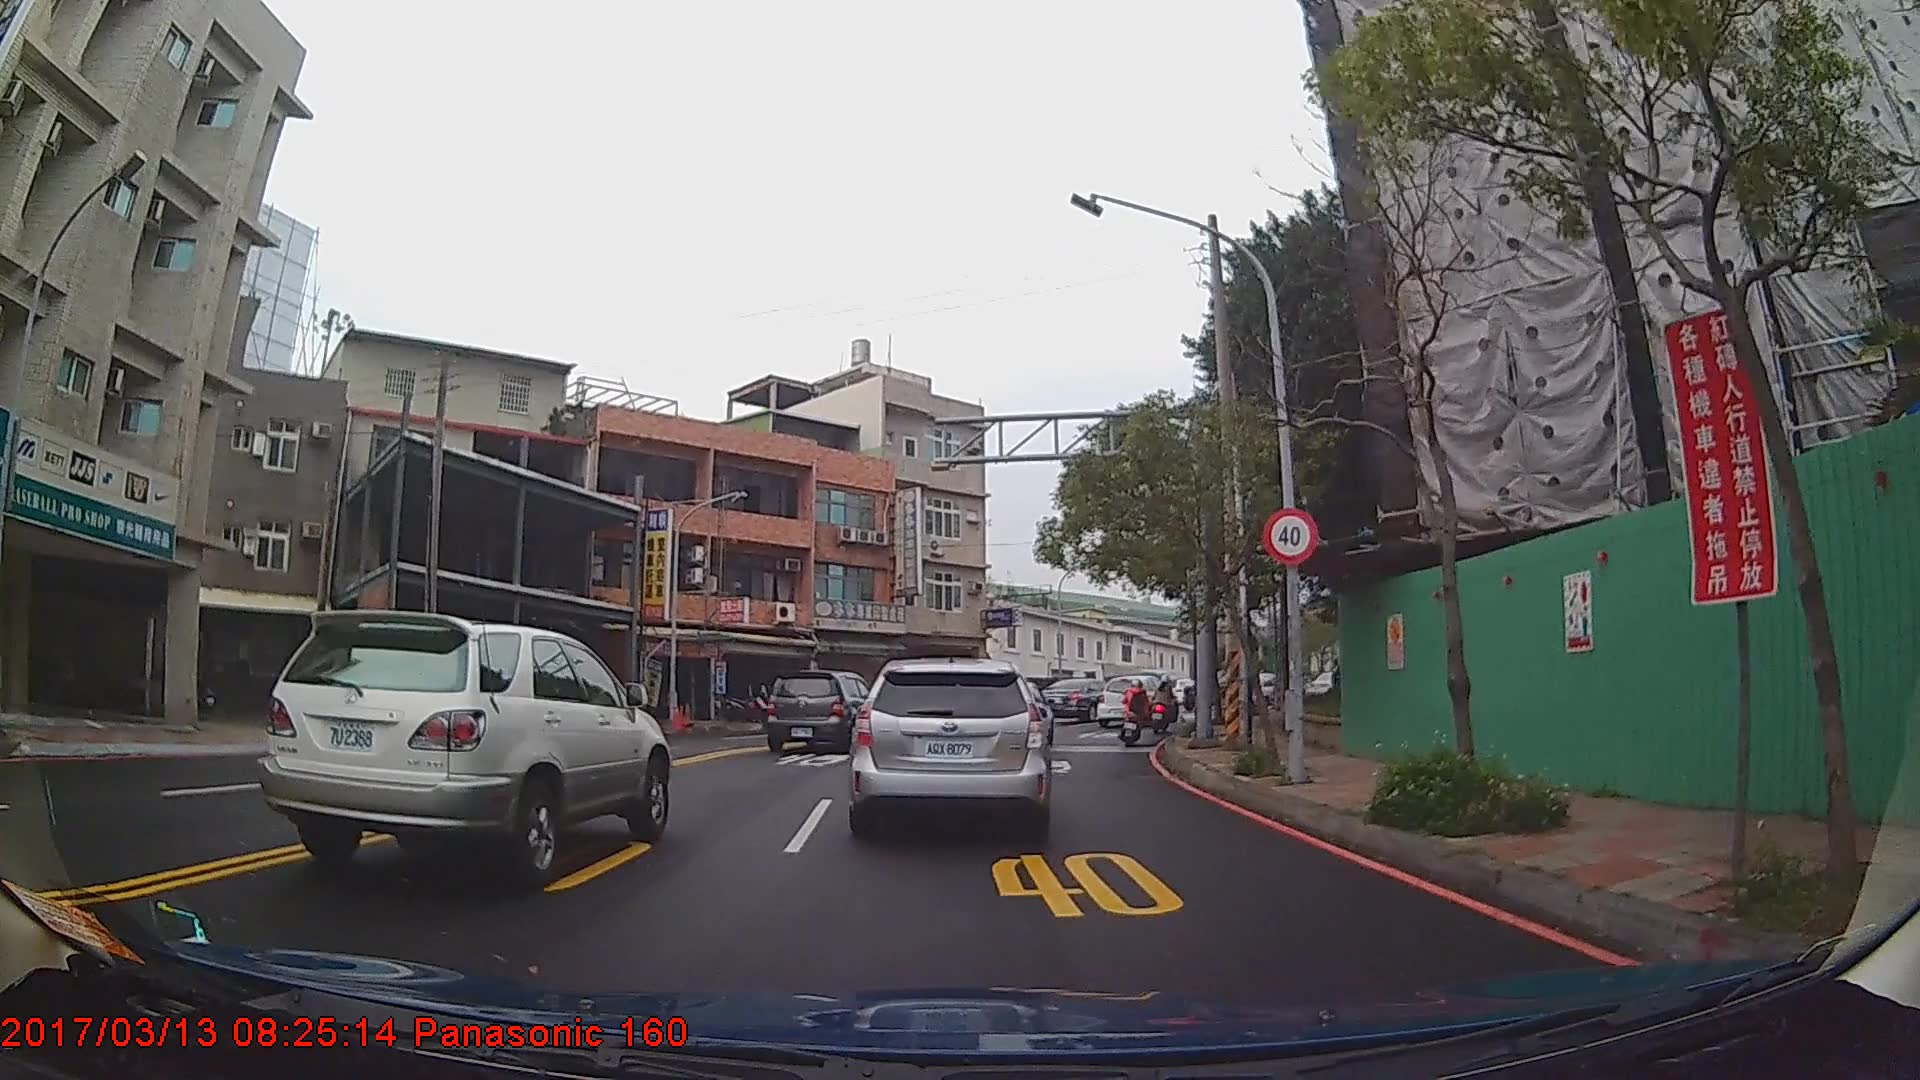rider: (1121, 679, 1150, 747), (1152, 674, 1177, 734)
vehicle: (263, 606, 669, 887), (849, 654, 1052, 841), (766, 668, 879, 753), (1044, 677, 1114, 723)
